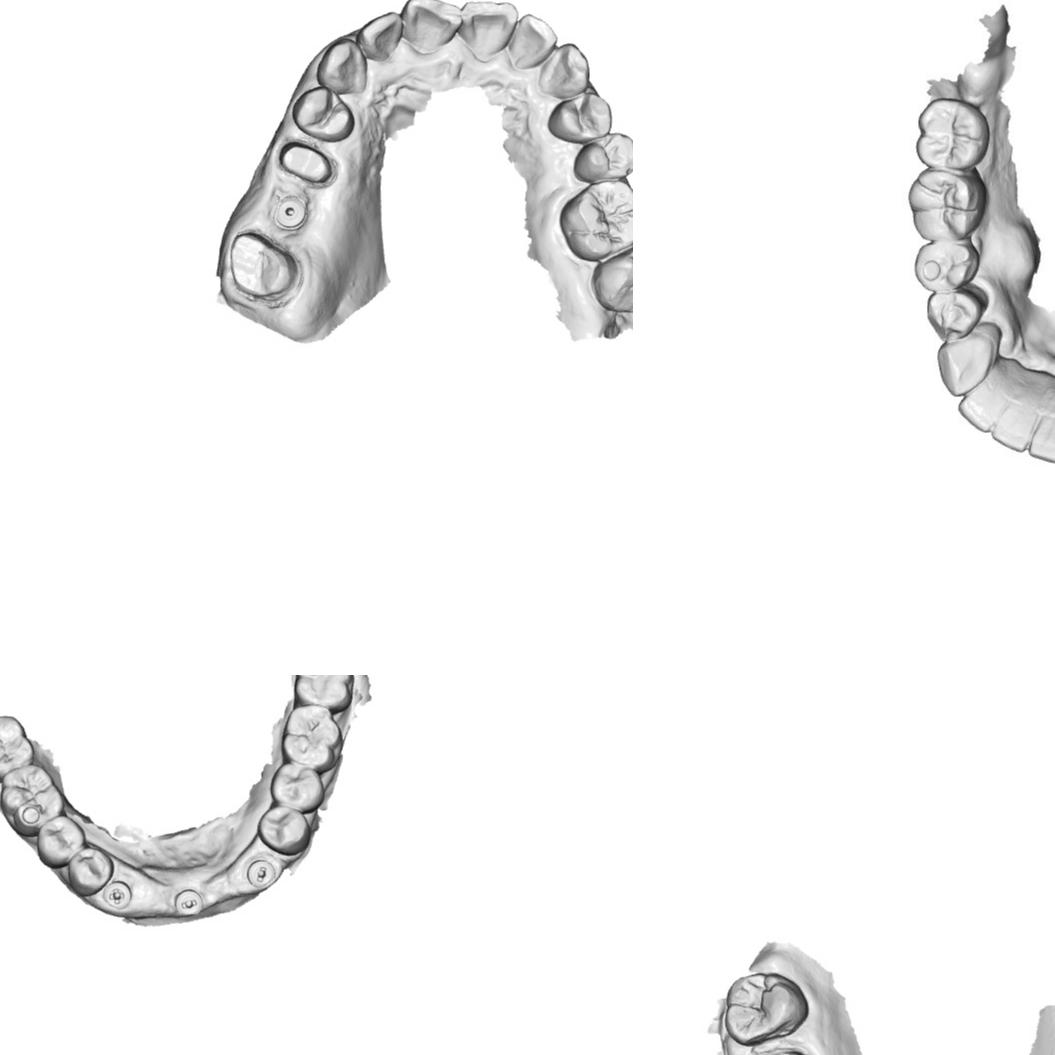canine: (932, 324, 1003, 397), (314, 36, 370, 96), (536, 41, 592, 100)
crown: (225, 230, 301, 305), (276, 139, 336, 187)
implant: (271, 189, 306, 229)
implant_minus: (246, 858, 277, 889), (174, 888, 204, 916)
implant_plus: (102, 880, 133, 910)
incisor: (398, 0, 464, 57), (460, 0, 520, 59), (506, 11, 559, 71), (988, 393, 1033, 451), (959, 380, 1008, 433), (355, 10, 402, 64), (1028, 395, 1055, 465)
molar: (906, 168, 992, 246), (558, 176, 633, 264), (722, 971, 808, 1045), (916, 98, 994, 172), (0, 763, 64, 838), (280, 704, 343, 774), (590, 237, 633, 315), (292, 675, 354, 715), (0, 714, 35, 783)
premolar: (290, 84, 356, 144), (917, 284, 990, 338), (544, 90, 615, 143), (911, 239, 976, 293), (572, 131, 633, 184), (256, 805, 311, 857), (270, 762, 324, 814), (35, 814, 86, 868), (67, 846, 114, 897)
